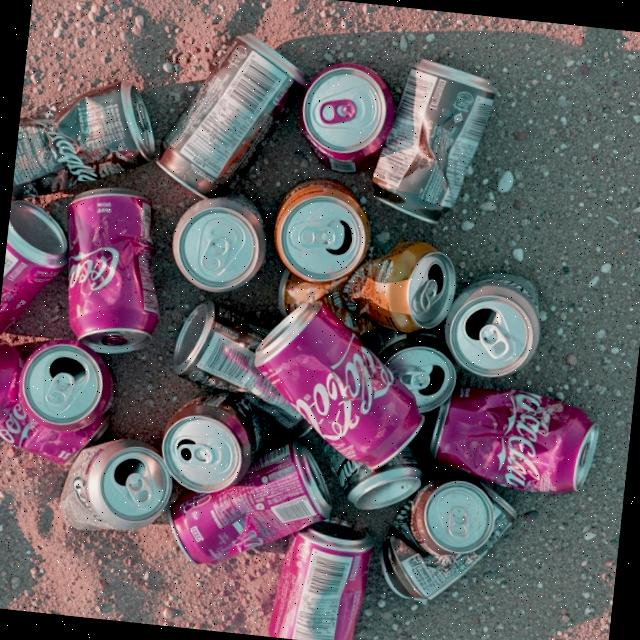aluminum: (242, 290, 440, 478), (150, 23, 308, 210), (159, 430, 340, 580), (364, 49, 501, 230), (47, 180, 176, 360), (423, 377, 606, 502), (0, 333, 117, 470), (266, 516, 376, 640), (266, 175, 374, 288), (294, 53, 399, 169), (440, 266, 544, 382), (164, 190, 270, 297), (57, 438, 172, 536), (0, 196, 69, 357)
